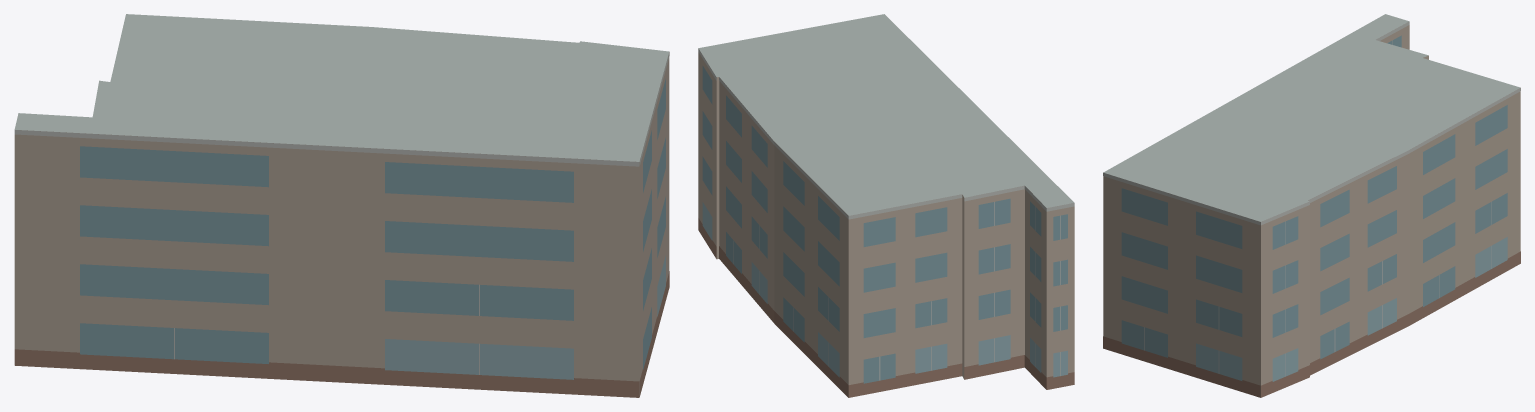
The model's file is residential-189c7597-4d66-45d3-9a6e-a92b4c28f848.glb.
3 renders of one model, left to right at view 1: azimuth 30°, elevation 25°; view 2: azimuth 150°, elevation 25°; view 3: azimuth 270°, elevation 25°, orthographic. The views are drawn at different scales.
Parts seen in each view (by area): view 1: residential-189c7597-4d66-45d3-9a6e-a92b4c28f848.tmp; view 2: residential-189c7597-4d66-45d3-9a6e-a92b4c28f848.tmp; view 3: residential-189c7597-4d66-45d3-9a6e-a92b4c28f848.tmp.
Boxes of the visible parts, left/top/right/bottom form: residential-189c7597-4d66-45d3-9a6e-a92b4c28f848.tmp: left=14, top=14, right=669, bottom=397; residential-189c7597-4d66-45d3-9a6e-a92b4c28f848.tmp: left=698, top=14, right=1074, bottom=397; residential-189c7597-4d66-45d3-9a6e-a92b4c28f848.tmp: left=1103, top=14, right=1520, bottom=397.
Size of the model in its own units: 30.93 by 12.2 by 26.25.
